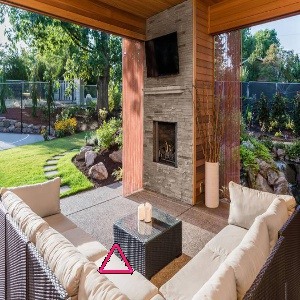triangle: (95, 241, 137, 279)
